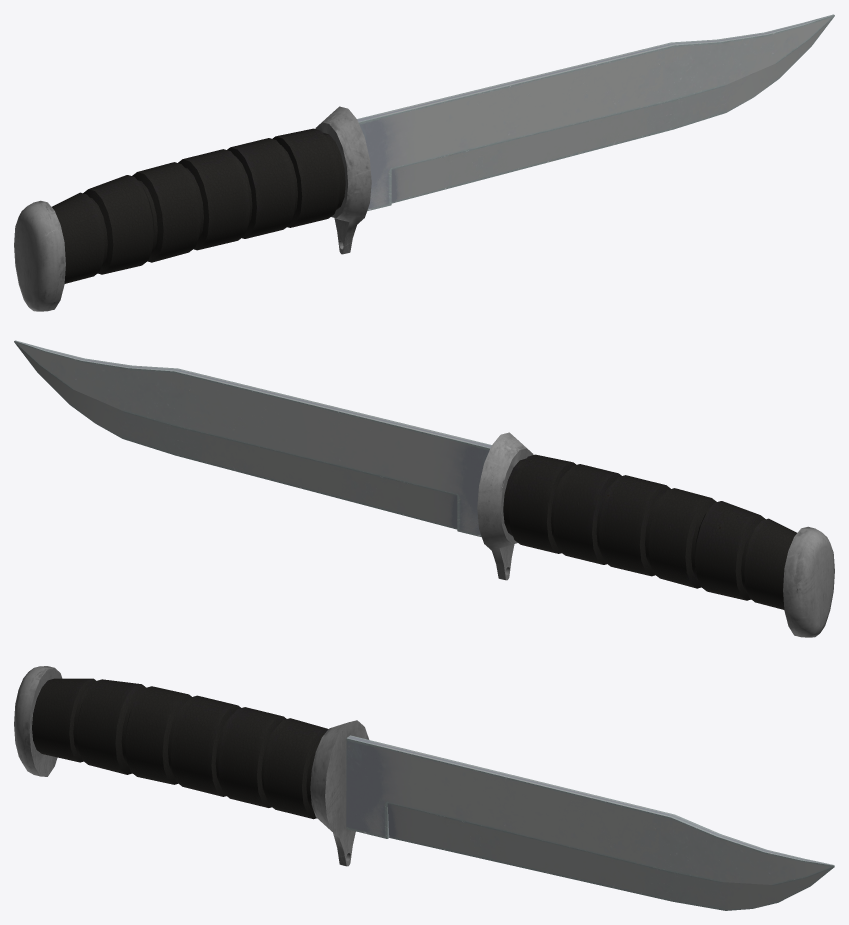
The model's file is combat_knife.glb.
The picture shows the model from 3 angles, top to bottom: view 1: azimuth 30°, elevation 25°; view 2: azimuth 150°, elevation 25°; view 3: azimuth 330°, elevation 25°; orthographic projection.
Parts seen in each view (by area): view 1: Cylinder; view 2: Cylinder; view 3: Cylinder.
Part boxes in pixels (x1,y1,x2,y2): Cylinder: (14, 14, 834, 311); Cylinder: (14, 340, 834, 637); Cylinder: (14, 666, 834, 910).
Bounding box in the file's own units: 1198 × 204 × 120.
3 materials, 3 textured.
